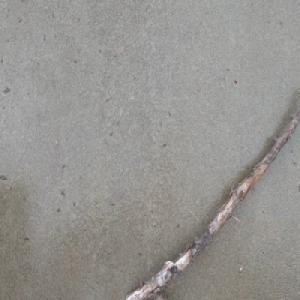Wood: (124, 107, 300, 300)
